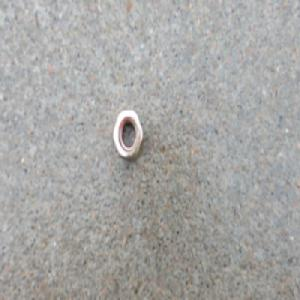Nut: (111, 111, 143, 164)
